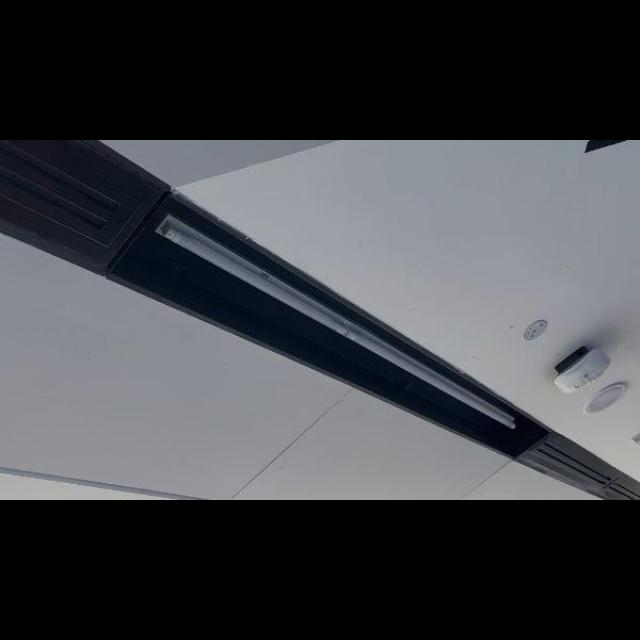Straight-Tube-Fluorescent-Lamp: (148, 200, 522, 442)
